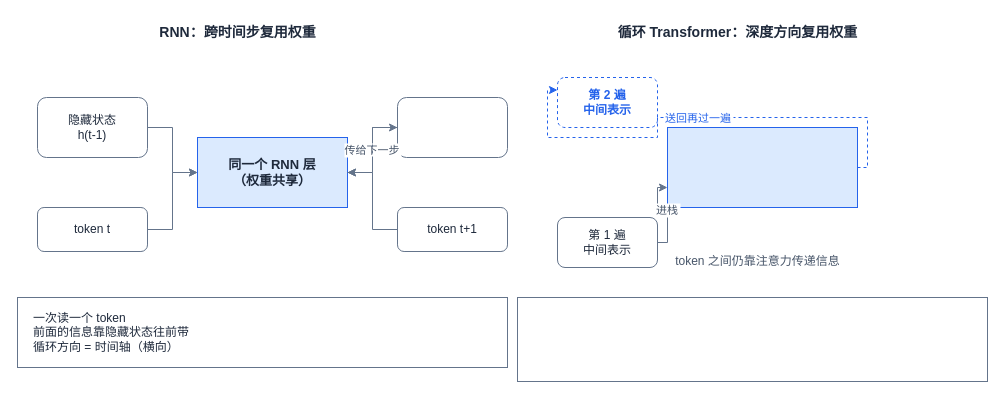
Image size: 1005x399. Some labels were removed from this diagram. Each missing label, with the box of its shape:
Transformer 栈 （22 个块，权重共享）: (666, 126, 858, 208)
同一个 token 的中间表示 多次通过同一个栈 循环方向 = 架构深度（纵向） 可理解为「权重共享版把模型做深」: (516, 296, 988, 382)
隐藏状态 h(t): (396, 96, 508, 158)
